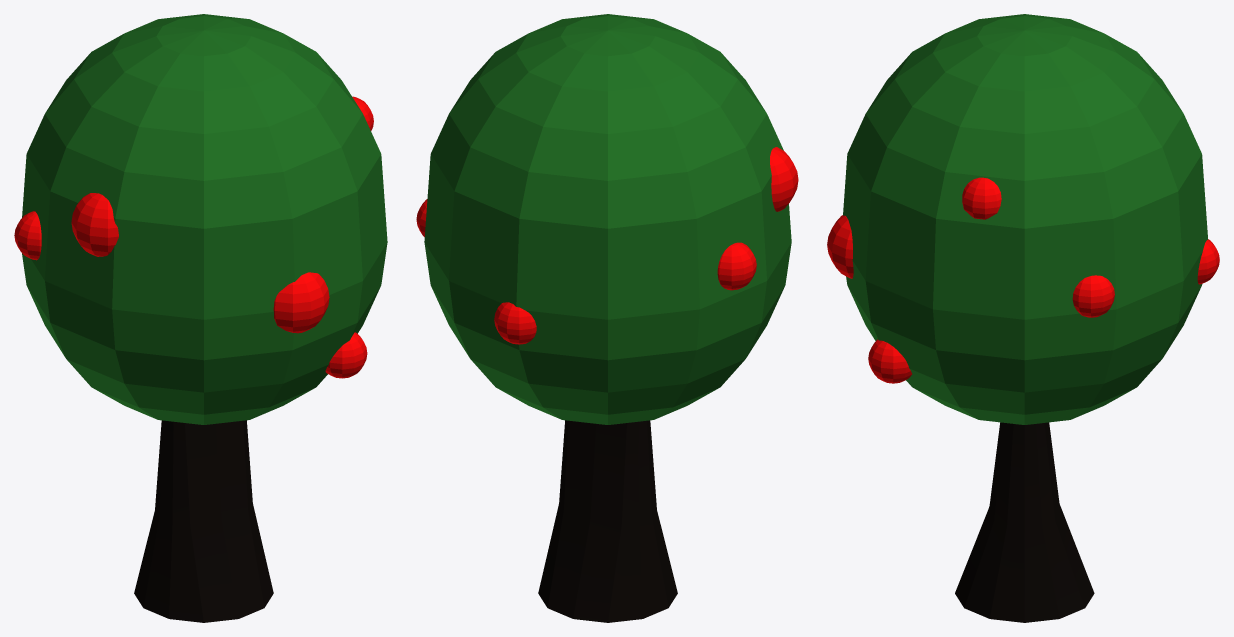
The model's file is arbol_frutal.obj.
3 renders of one model, left to right at view 1: azimuth 30°, elevation 25°; view 2: azimuth 150°, elevation 25°; view 3: azimuth 270°, elevation 25°, orthographic.
Parts seen in each view (by area): view 1: pSphere15; view 2: pSphere15; view 3: pSphere15.
Part boxes in pixels (bbox=[...]): pSphere15: bbox=[14, 14, 387, 622]; pSphere15: bbox=[416, 14, 798, 622]; pSphere15: bbox=[827, 14, 1219, 622].
Size of the model in its own units: 5.37 by 8.89 by 5.62.
